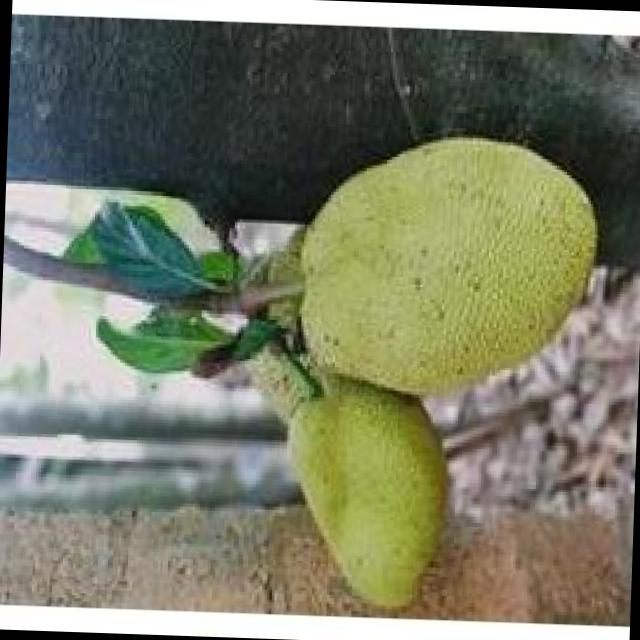Fruit: (269, 112, 630, 432), (260, 364, 473, 620)
